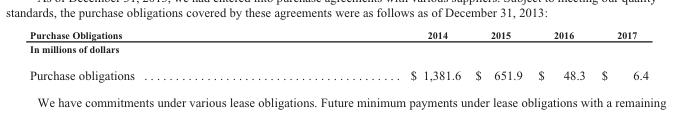table: (29, 28, 648, 82)
table column: (29, 28, 271, 82), (271, 28, 467, 82), (529, 28, 592, 82), (467, 28, 529, 82), (592, 28, 648, 82)
table column header: (29, 28, 648, 41)
table projected row header: (29, 41, 648, 61)
table row: (29, 61, 648, 82), (29, 41, 648, 61), (29, 28, 648, 41)
